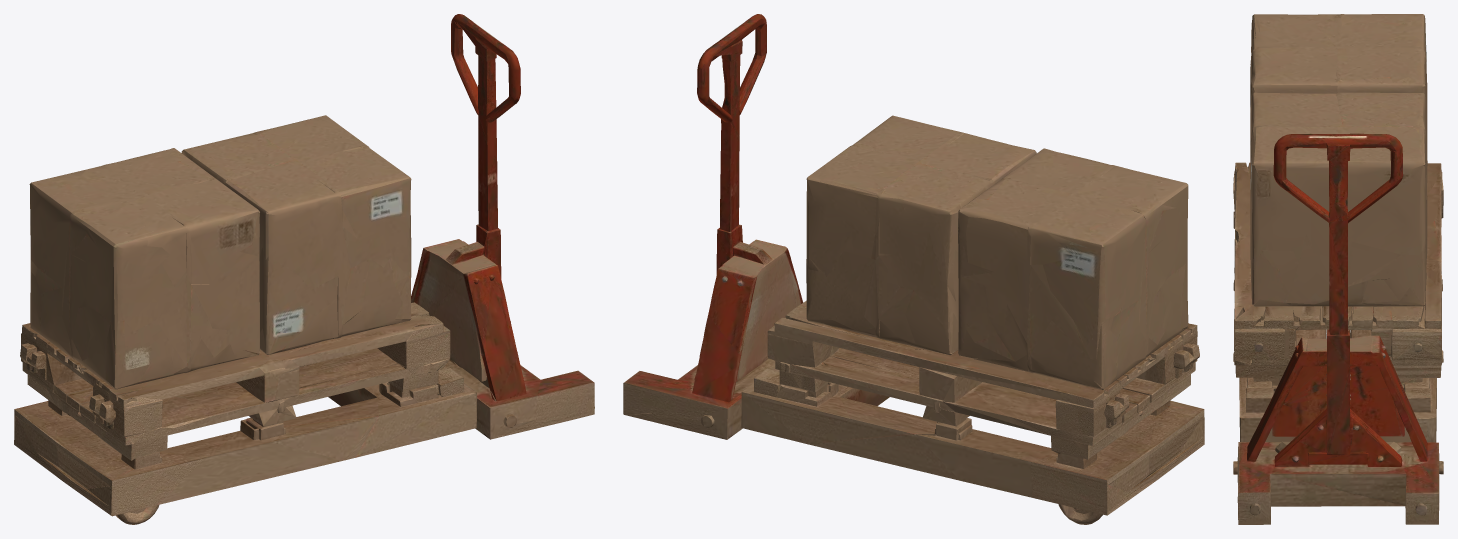
File: docaPalletJack.glb
3 views of the same model, side by side, from view 1: azimuth 30°, elevation 25°; view 2: azimuth 150°, elevation 25°; view 3: azimuth 270°, elevation 25° (orthographic).
Size of the model in its own units: 1.9 by 1.36 by 0.7086.
1 material, 1 textured.
